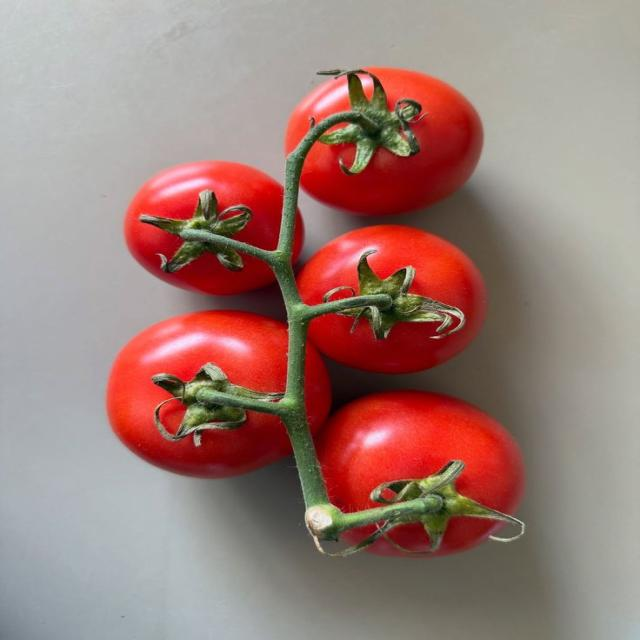tomato: (107, 311, 291, 477), (298, 226, 486, 373), (301, 68, 482, 215), (317, 391, 524, 514), (125, 162, 283, 294)
